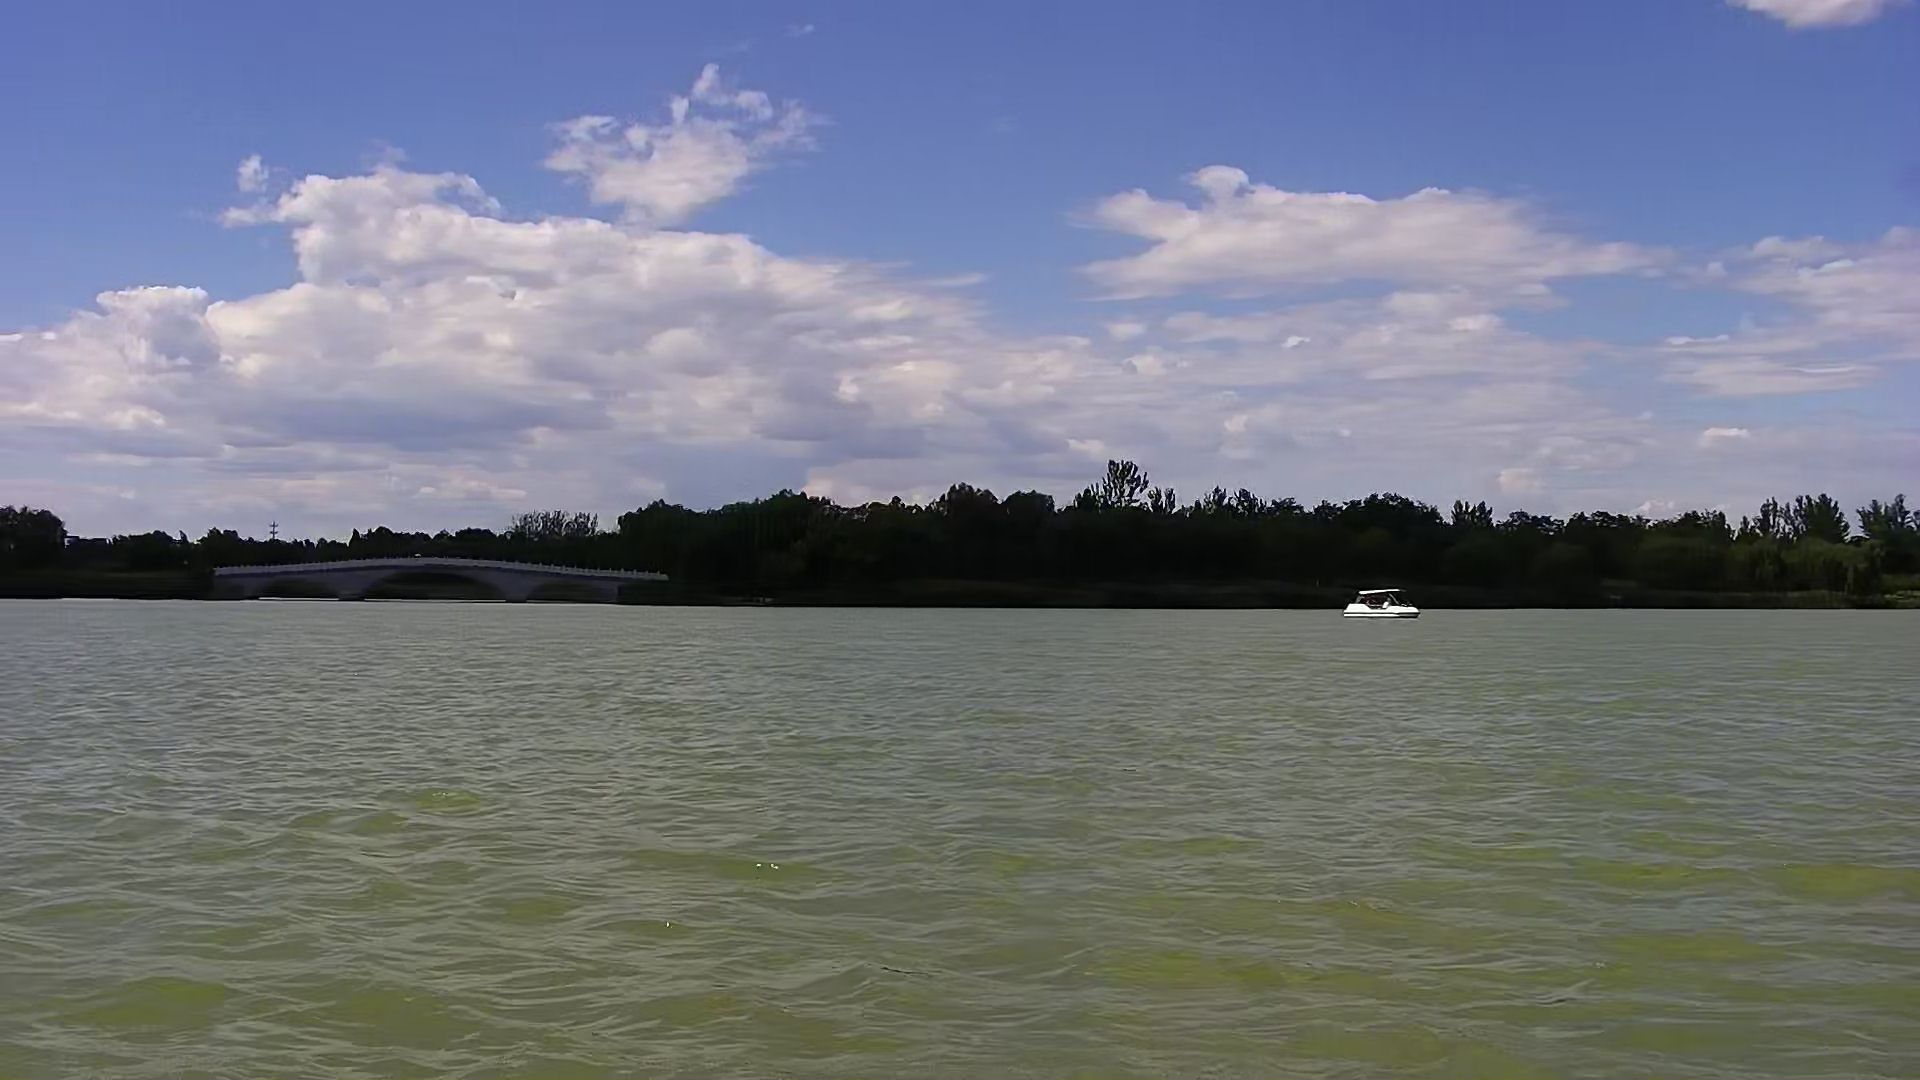boat: (1344, 584, 1428, 626)
bridge: (204, 549, 676, 604)
